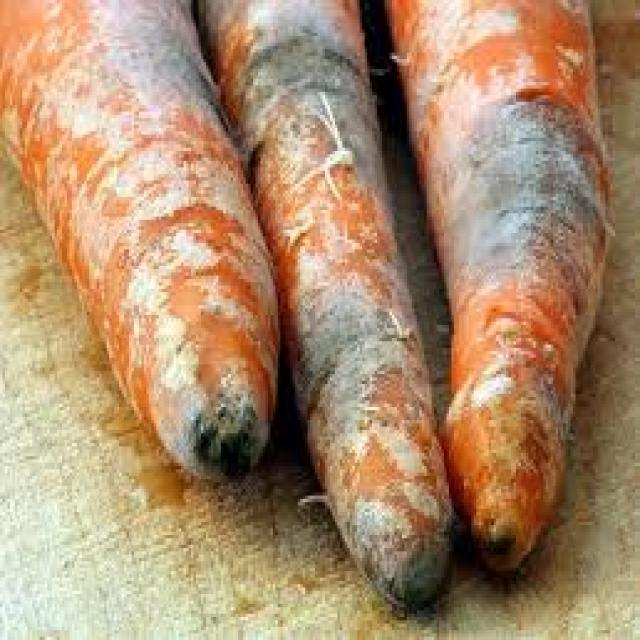Stale_Carrot: (205, 0, 458, 633), (379, 0, 623, 589), (1, 0, 280, 479)
